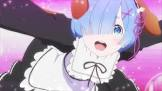rem: (13, 1, 153, 91)
